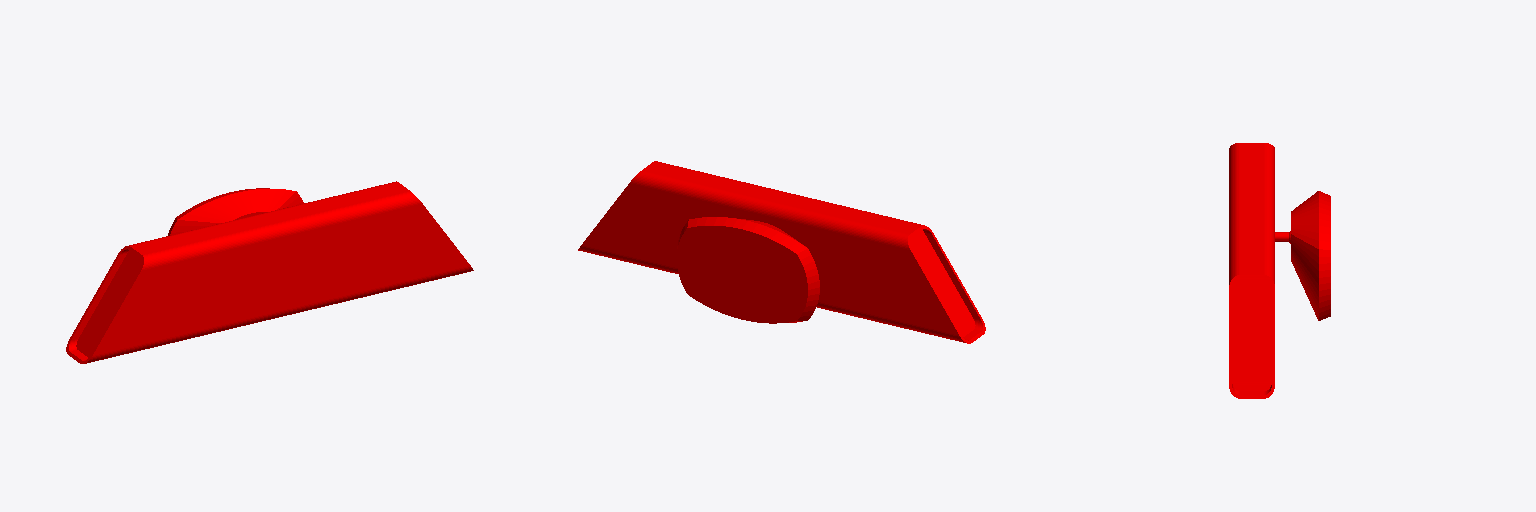
Rendered from kinect_mm.obj.
3 views of the same model, side by side, from view 1: azimuth 30°, elevation 25°; view 2: azimuth 150°, elevation 25°; view 3: azimuth 270°, elevation 25° (orthographic).
Visible parts, largest first — view 1: ID26, ID56, ID32, ID44, ID20, ID62; view 2: ID26, ID68, ID56, ID44, ID32, ID20; view 3: ID26, ID38, ID56, ID62.
Boxes of the visible parts, box(x1,y1,x2,y2) form: ID26: box(66, 181, 470, 363); ID56: box(168, 188, 295, 235); ID32: box(86, 266, 473, 363); ID44: box(76, 250, 141, 357); ID20: box(69, 249, 128, 360); ID62: box(170, 191, 303, 234); ID26: box(582, 161, 985, 343); ID68: box(677, 226, 807, 323); ID56: box(677, 217, 819, 322); ID44: box(910, 230, 975, 336); ID32: box(578, 245, 965, 342); ID20: box(923, 229, 982, 340); ID26: box(1229, 143, 1274, 398); ID38: box(1232, 279, 1271, 390); ID56: box(1291, 191, 1330, 320); ID62: box(1291, 234, 1318, 320).
Size of the model in its own units: 281 by 67.41 by 63.28.